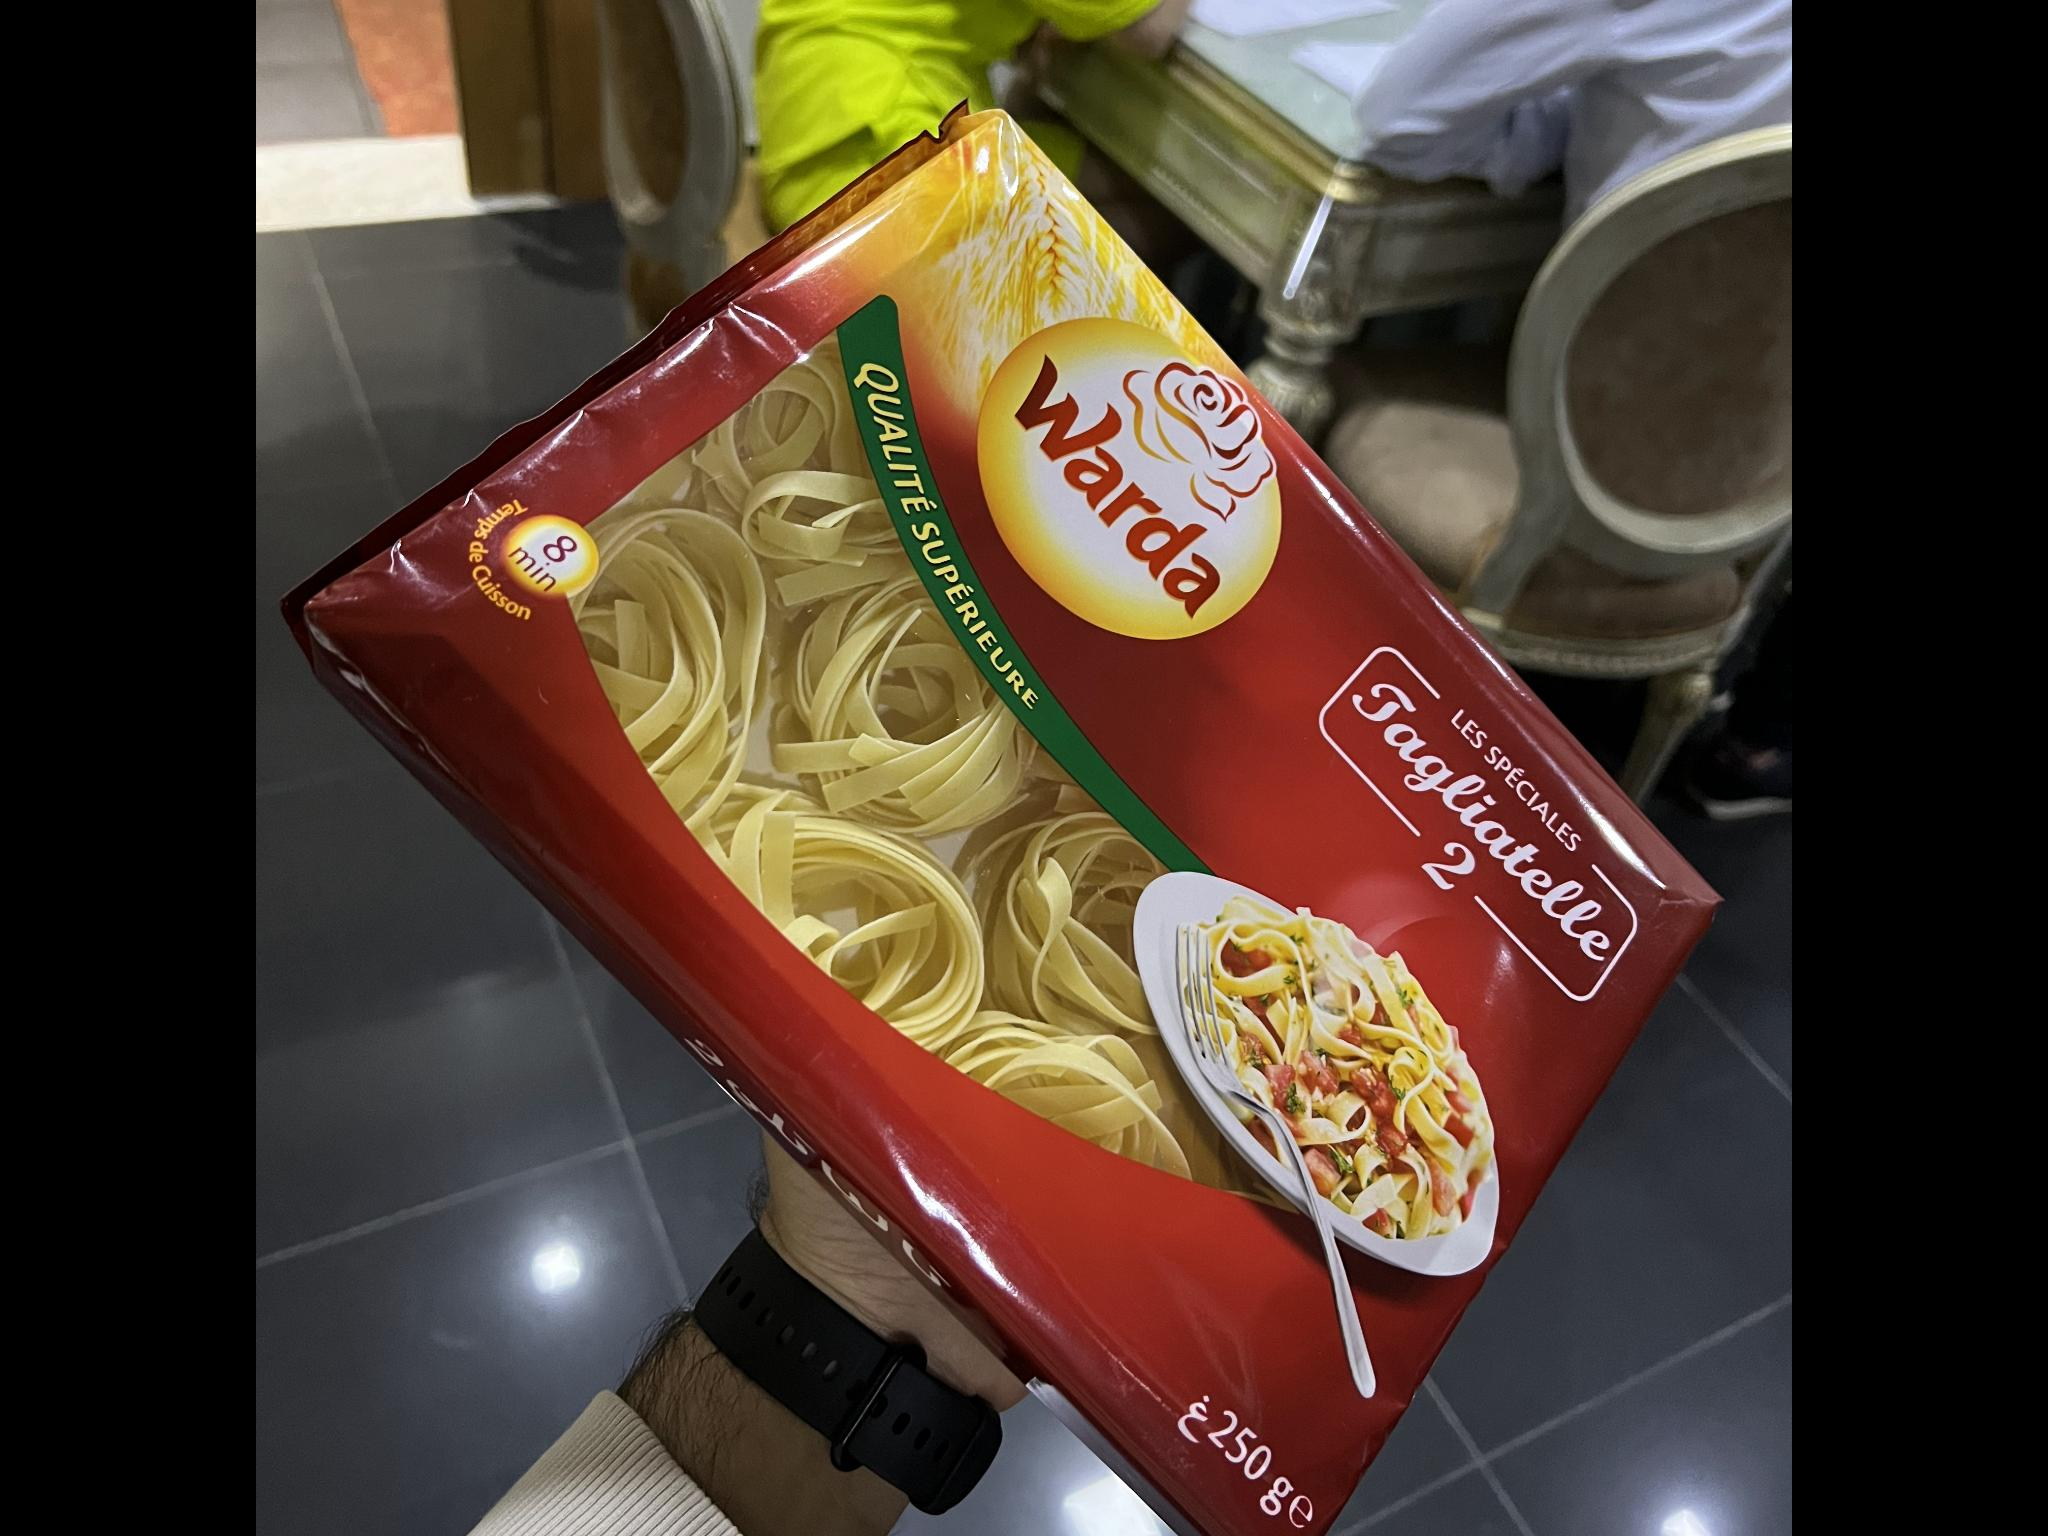Tagliatelle: (305, 95, 1721, 1536)
